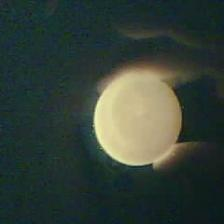infertile: (92, 74, 182, 168)
